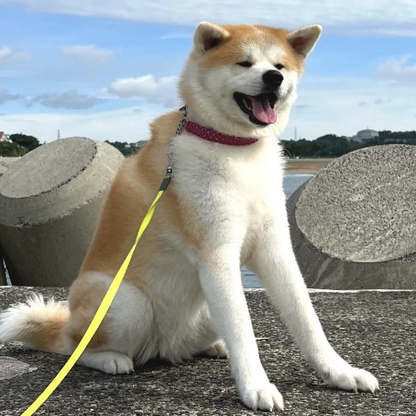akita: (1, 15, 385, 416)
